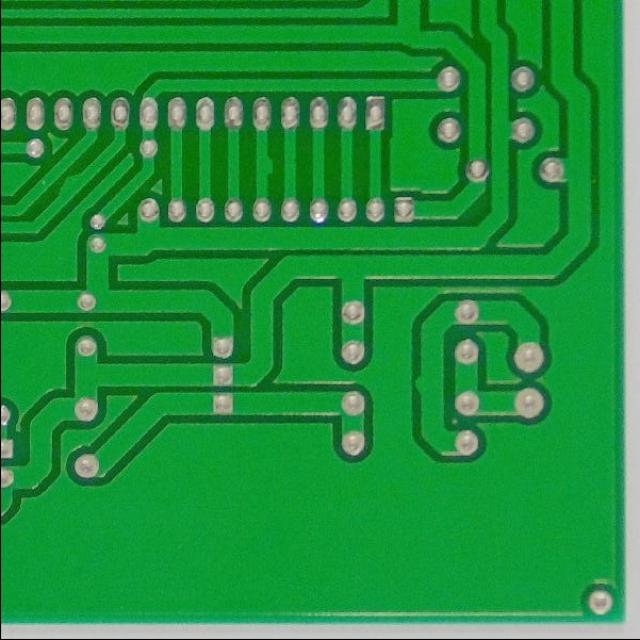spur: (51, 163, 90, 208), (251, 148, 278, 187), (410, 365, 434, 405)
